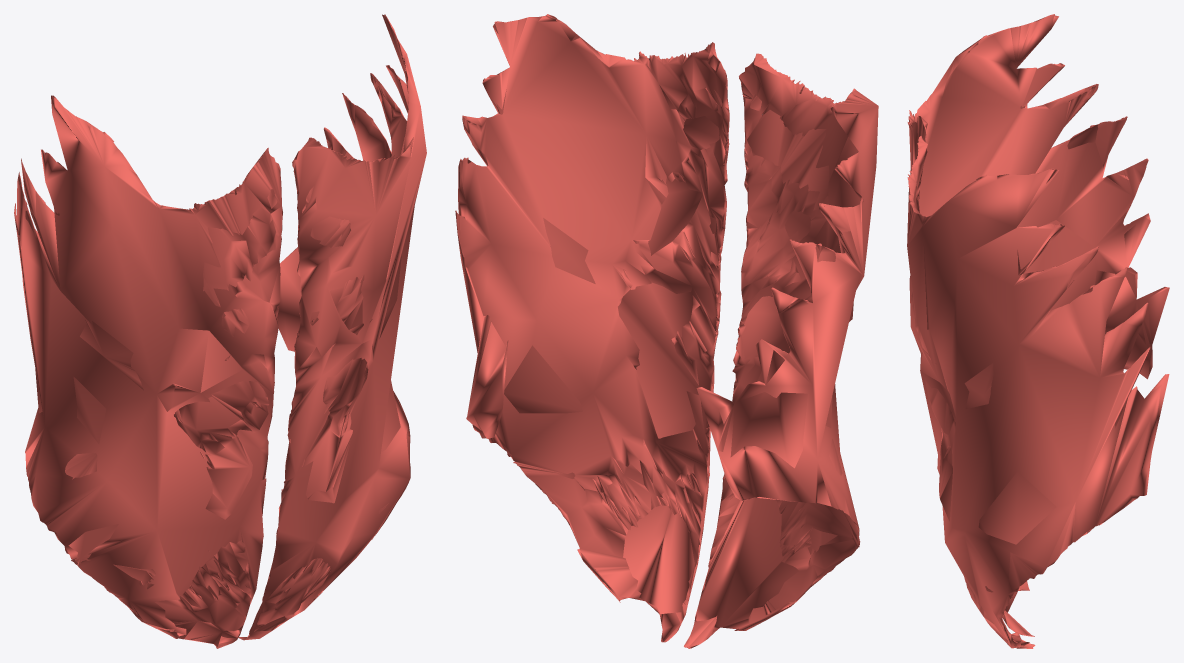
Rendered from supplement-spine-trunk-muscle-abdominals-2SWO7YAC.glb.
3 renders of one model, left to right at view 1: azimuth 30°, elevation 25°; view 2: azimuth 150°, elevation 25°; view 3: azimuth 270°, elevation 25°, orthographic. The views are drawn at different scales.
Parts seen in each view (by area): view 1: spine-trunk:external-oblique:isa:FJ1452, spine-trunk:external-oblique:isa:FJ1452M; view 2: spine-trunk:external-oblique:isa:FJ1452M, spine-trunk:external-oblique:isa:FJ1452; view 3: spine-trunk:external-oblique:isa:FJ1452M, spine-trunk:external-oblique:isa:FJ1452.
Part boxes in pixels (x1,y1,x2,y2): spine-trunk:external-oblique:isa:FJ1452: (14,95,282,648); spine-trunk:external-oblique:isa:FJ1452M: (238,14,426,640); spine-trunk:external-oblique:isa:FJ1452M: (455,14,729,642); spine-trunk:external-oblique:isa:FJ1452: (684,53,878,648); spine-trunk:external-oblique:isa:FJ1452M: (907,136,1169,648); spine-trunk:external-oblique:isa:FJ1452: (907,14,1169,636).
Bounding box in the file's own units: 0.2811 × 0.4179 × 0.1806.
